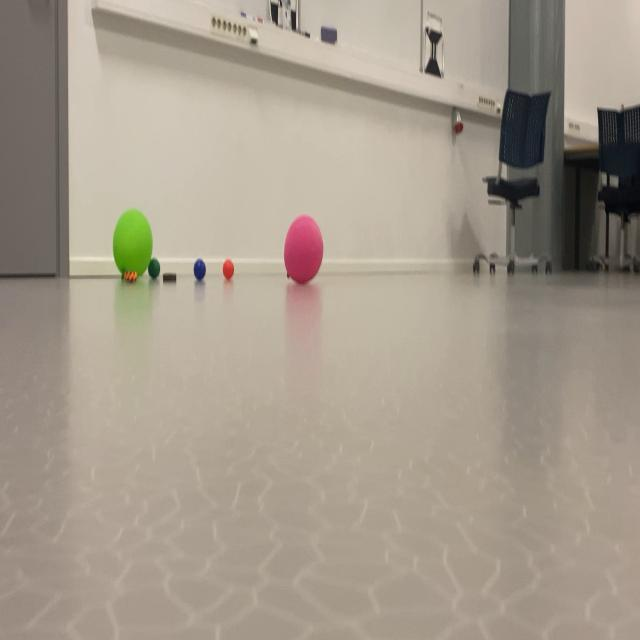7: (216, 245, 247, 310)
green ball: (188, 252, 210, 304)
red ball: (142, 252, 162, 288)
